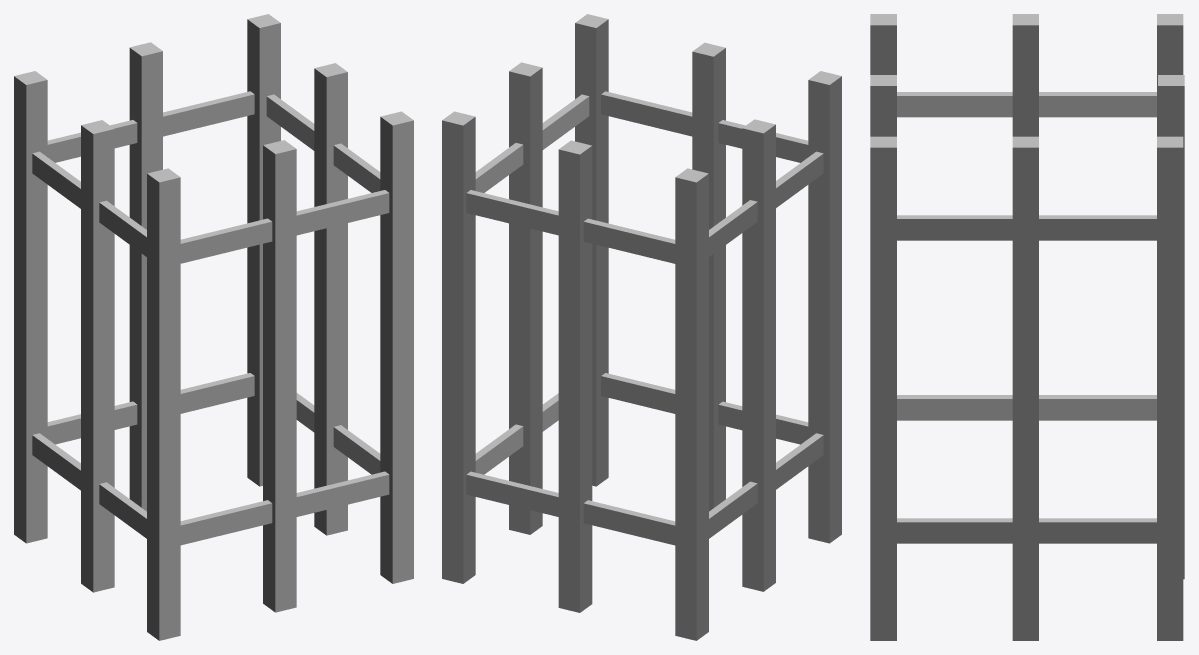
File: SM_TreeCage_01.fbx
3 views of the same model, side by side, from view 1: azimuth 30°, elevation 25°; view 2: azimuth 150°, elevation 25°; view 3: azimuth 270°, elevation 25° (orthographic). The views are drawn at different scales.
Visible parts, largest first — view 1: SM_TreeCage_01; view 2: SM_TreeCage_01; view 3: SM_TreeCage_01.
Boxes of the visible parts, bbox=[...] form: SM_TreeCage_01: bbox=[14, 14, 413, 640]; SM_TreeCage_01: bbox=[442, 14, 841, 640]; SM_TreeCage_01: bbox=[870, 14, 1184, 640].
Size of the model in its own units: 1.03 by 1.77 by 1.02.
